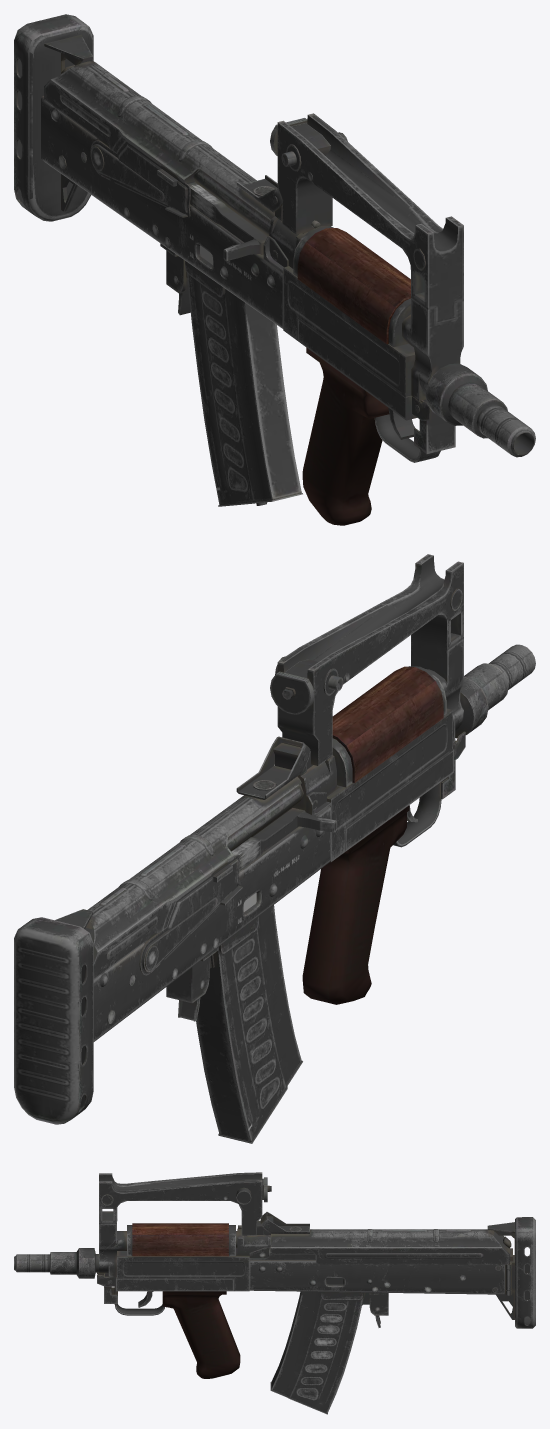
Rendered from bullpup.glb.
3 views of the same model, one above another, from view 1: azimuth 30°, elevation 25°; view 2: azimuth 150°, elevation 25°; view 3: azimuth 270°, elevation 25° (orthographic). The views are drawn at different scales.
Parts seen in each view (by area): view 1: UpperHandle_low.000__0, Cartridge_low.000__0, Body_low.000__0, Receiver_low.000__0, Handle_low.000__0, Butt_low.000__0, FrontBox_low.000__0, GasChamber_low.000__0, Barrel_low.000__0, ModeSwitcher_low.000__0, Shutter_low.000__0, CylinderShutter_low.000__0 (+5 smaller); view 2: Cartridge_low.000__0, Butt_low.000__0, UpperHandle_low.000__0, Handle_low.000__0, Body_low.000__0, Receiver_low.000__0, GasChamber_low.000__0, FrontBox_low.000__0, ModeSwitcher_low.000__0, Barrel_low.000__0, Shutter_low.000__0, ReceiverClamping1_low.000__0 (+4 smaller); view 3: Receiver_low.000__0, Body_low.000__0, Cartridge_low.000__0, UpperHandle_low.000__0, FrontBox_low.000__0, Handle_low.000__0, GasChamber_low.000__0, Butt_low.000__0, Barrel_low.000__0, ReceiverClamping1_low.000__0, WeaponDetail1_low.000__0, WeaponDetail2_low.000__0 (+2 smaller).
Part boxes in pixels (x1,y1,x2,y2): UpperHandle_low.000__0: (277,113,463,400); Cartridge_low.000__0: (185,261,302,506); Body_low.000__0: (41,96,283,328); Receiver_low.000__0: (44,61,274,220); Handle_low.000__0: (302,347,440,525); Butt_low.000__0: (14,14,93,221); FrontBox_low.000__0: (283,266,426,420); GasChamber_low.000__0: (293,226,410,347); Barrel_low.000__0: (425,363,535,457); ModeSwitcher_low.000__0: (90,140,190,217); Shutter_low.000__0: (188,182,267,261); CylinderShutter_low.000__0: (193,169,271,236); Cartridge_low.000__0: (196,905,302,1143); Butt_low.000__0: (14,917,93,1124); UpperHandle_low.000__0: (277,554,463,765); Handle_low.000__0: (302,782,441,1004); Body_low.000__0: (93,806,330,1041); Receiver_low.000__0: (85,776,301,979); GasChamber_low.000__0: (332,666,446,787); FrontBox_low.000__0: (327,708,453,862); ModeSwitcher_low.000__0: (139,855,242,975); Barrel_low.000__0: (455,644,535,738); Shutter_low.000__0: (231,808,336,871); ReceiverClamping1_low.000__0: (236,736,310,799); Receiver_low.000__0: (270,1229,509,1264); Body_low.000__0: (249,1248,512,1294); Cartridge_low.000__0: (270,1291,364,1414); UpperHandle_low.000__0: (99,1172,262,1277); FrontBox_low.000__0: (116,1251,249,1291); Handle_low.000__0: (114,1286,240,1378); GasChamber_low.000__0: (127,1223,235,1256); Butt_low.000__0: (515,1217,535,1328); Barrel_low.000__0: (14,1248,98,1278); ReceiverClamping1_low.000__0: (260,1212,309,1233); WeaponDetail1_low.000__0: (236,1228,270,1255); WeaponDetail2_low.000__0: (249,1247,315,1260).
Size of the model in its own units: 68.32 by 320 by 649.
1 material, 1 textured.
